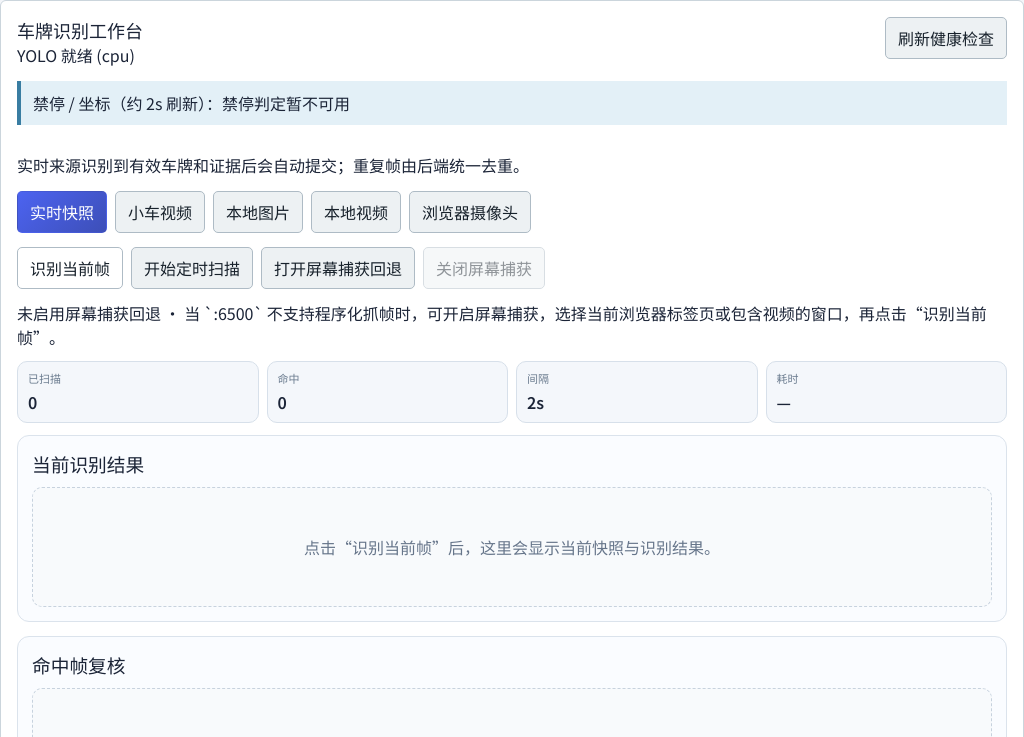
Test case: PlateScanPanel › keeps manual violation submission only for local files
Check: the text "YOLO 就绪 (cpu)" is shown, box [17,43,143,67]
Check: the button "添加到违规车辆" is not shown
Click the button "本地图片". click: [258, 212]
box: [213,191,303,233]
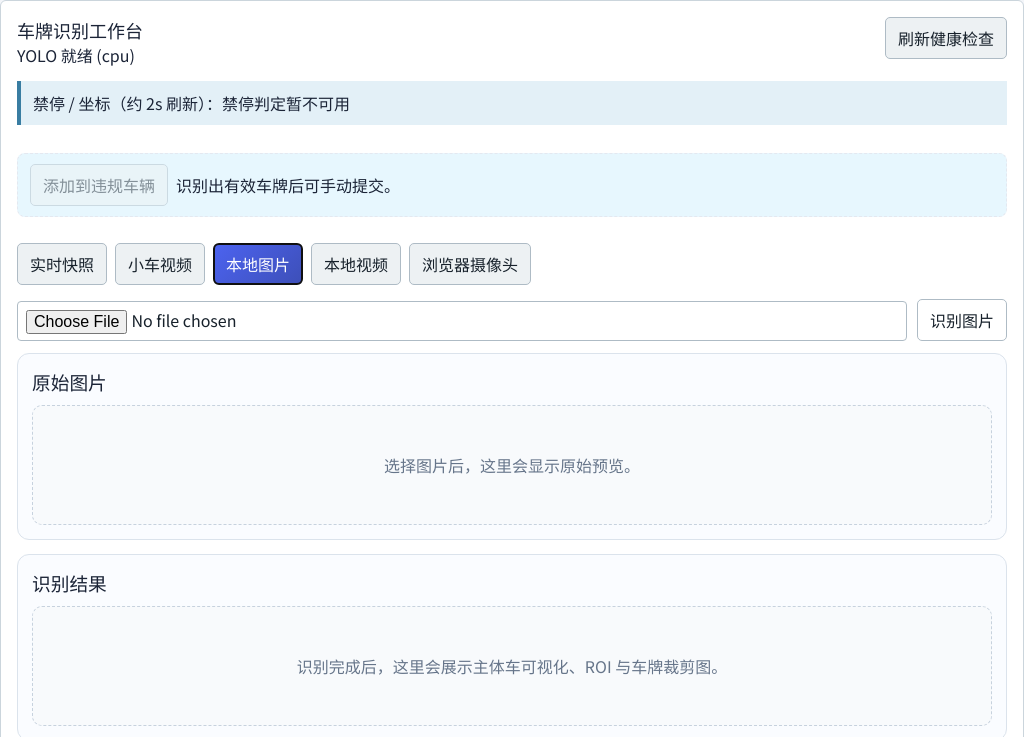
Check: the button "添加到违规车辆" is disabled, box [30,164,168,206]
Click the button "本地视频". click: [356, 264]
box: [311,243,401,285]
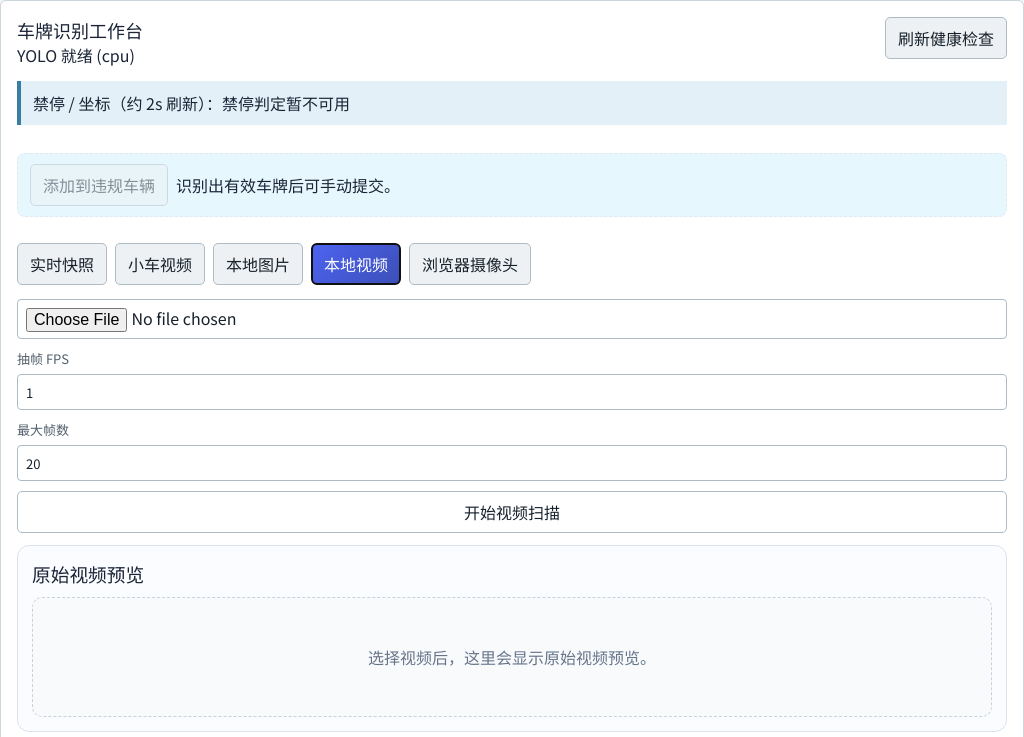
Check: the button "添加到违规车辆" is disabled, box [30,164,168,206]
Click the button "浏览器摄像头". click: [470, 264]
box: [409,243,531,285]
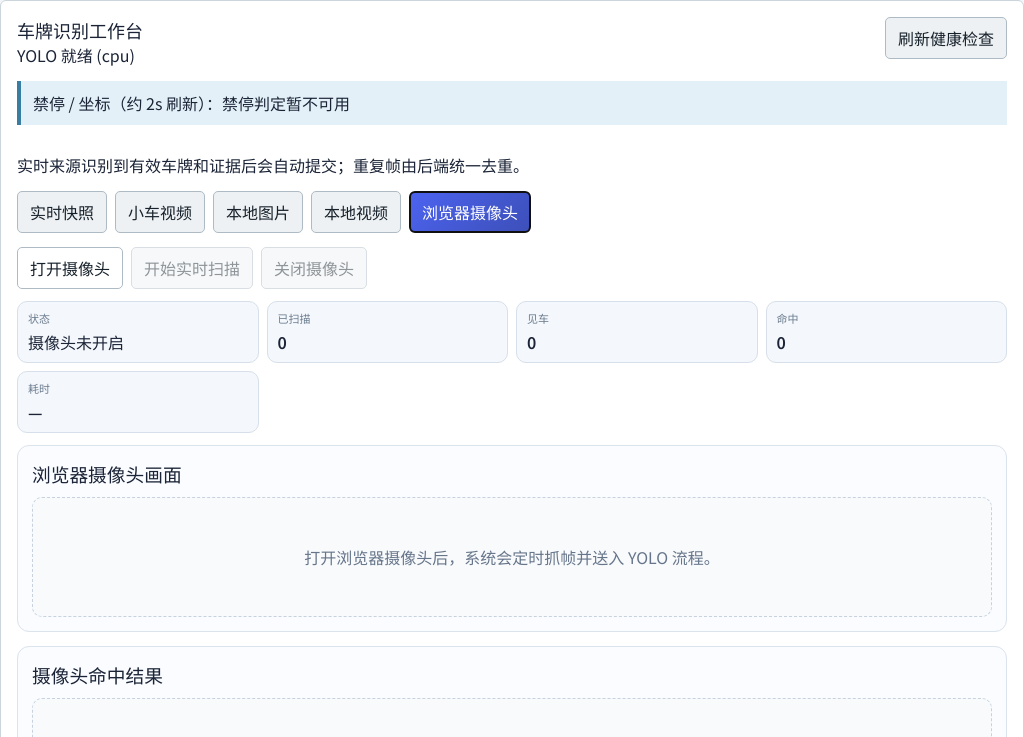
Check: the button "添加到违规车辆" is gone
